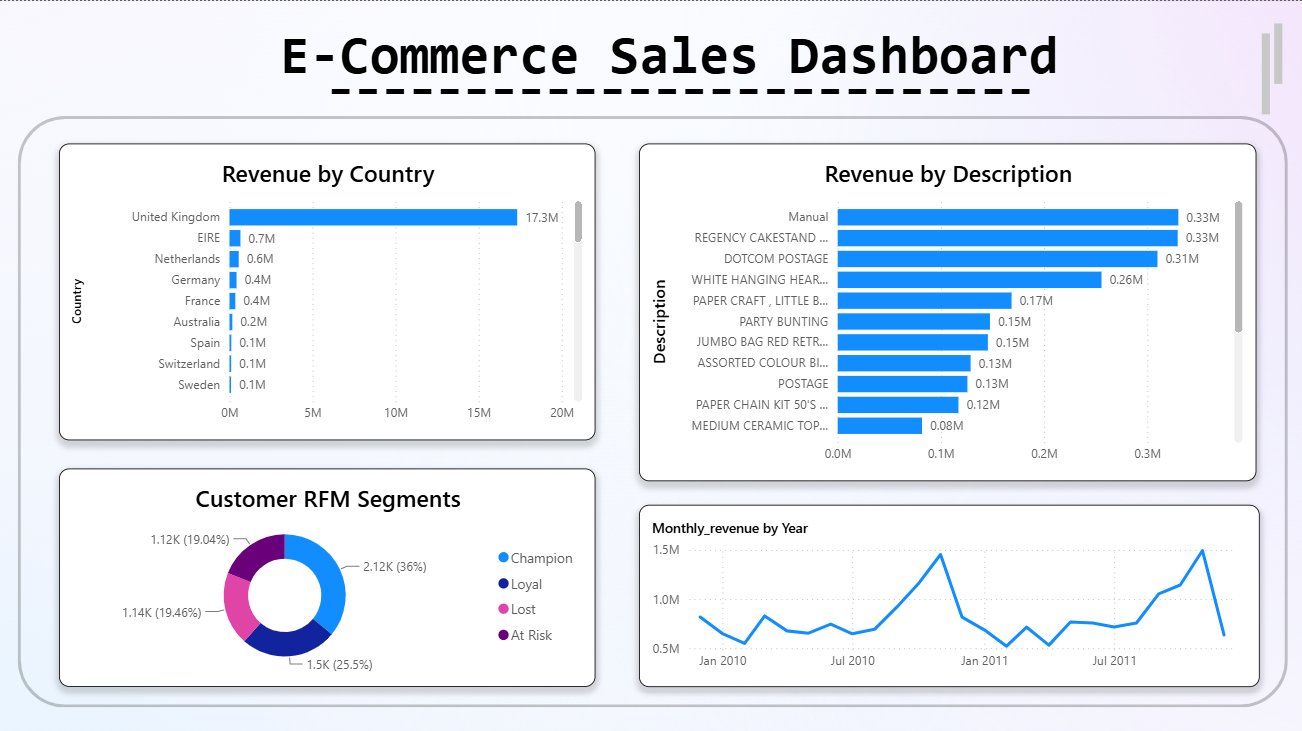

What the dashboard file says about the page in this screenshot:
{"tool":"powerbi","page":{"name":"Page 1","canvas":[1280,720],"ordinal":0},"visuals":[{"type":"shape","box":[18.8,112.5,1242.5,578.8],"z":0},{"type":"textbox","box":[58.7,17.1,1202,70.9],"z":5000},{"type":"textbox","box":[92.9,26.9,1155.6,97.8],"z":6000},{"type":"clusteredBarChart","title":"Revenue by Country","fields":{"Category":["Query1.Country"],"Y":["Sum(Query1.total_revenue)"]},"box":[58.8,140,525,290],"z":6500},{"type":"donutChart","title":"Customer RFM Segments","fields":{"Category":["customer_rfm.Segment"],"Y":["CountNonNull(customer_rfm.Segment)"]},"box":[58.8,457.5,525,213.8],"z":7000},{"type":"lineChart","title":"Monthly_revenue by Year","fields":{"Y":["Sum(monthly_sales_trend.monthly_revenue)"],"Category":["monthly_sales_trend.year_month.Variation.Date Hierarchy.Year","monthly_sales_trend.year_month.Variation.Date Hierarchy.Quarter","monthly_sales_trend.year_month.Variation.Date Hierarchy.Month","monthly_sales_trend.year_month.Variation.Date Hierarchy.Day"]},"box":[626.2,492.5,607.5,178.8],"z":7500},{"type":"clusteredBarChart","title":"Revenue by Description","fields":{"Category":["top_products.Description"],"Y":["Sum(top_products.total_revenue)"]},"box":[626.2,140,603.8,330],"z":8000}]}

Visuals, with their boxes in screenshot pixels (x1, y1, x2, y2), scaled from the page's 1280x720 canvas onto the 1302x731 screenshot:
shape: detection(19, 114, 1283, 702)
textbox: detection(60, 17, 1282, 89)
textbox: detection(94, 27, 1270, 127)
"Revenue by Country" clusteredBarChart: detection(60, 142, 594, 437)
"Customer RFM Segments" donutChart: detection(60, 464, 594, 682)
"Monthly_revenue by Year" lineChart: detection(637, 500, 1255, 682)
"Revenue by Description" clusteredBarChart: detection(637, 142, 1251, 477)
